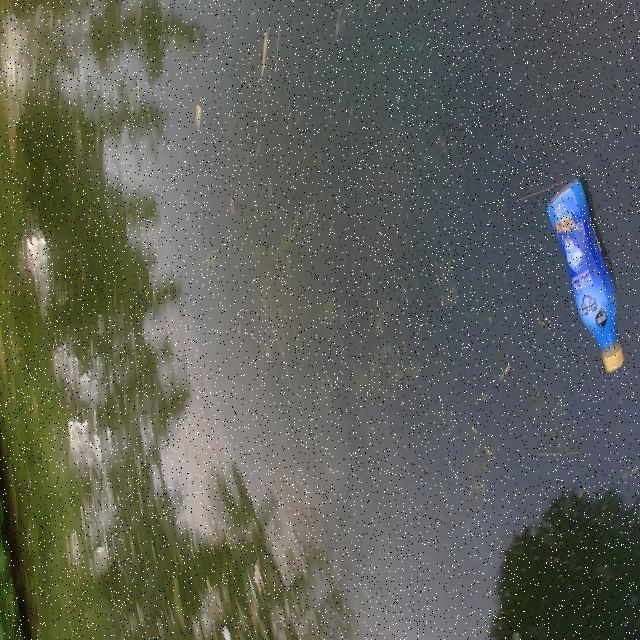Bottle: (538, 168, 630, 377)
